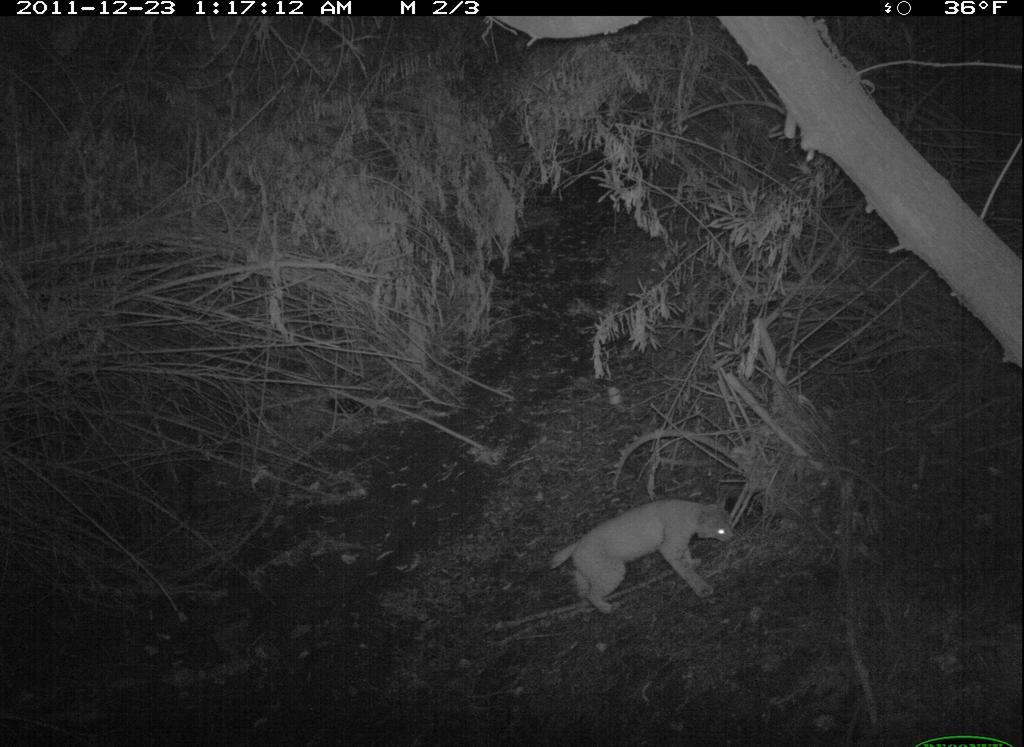bobcat: (542, 488, 752, 625)
